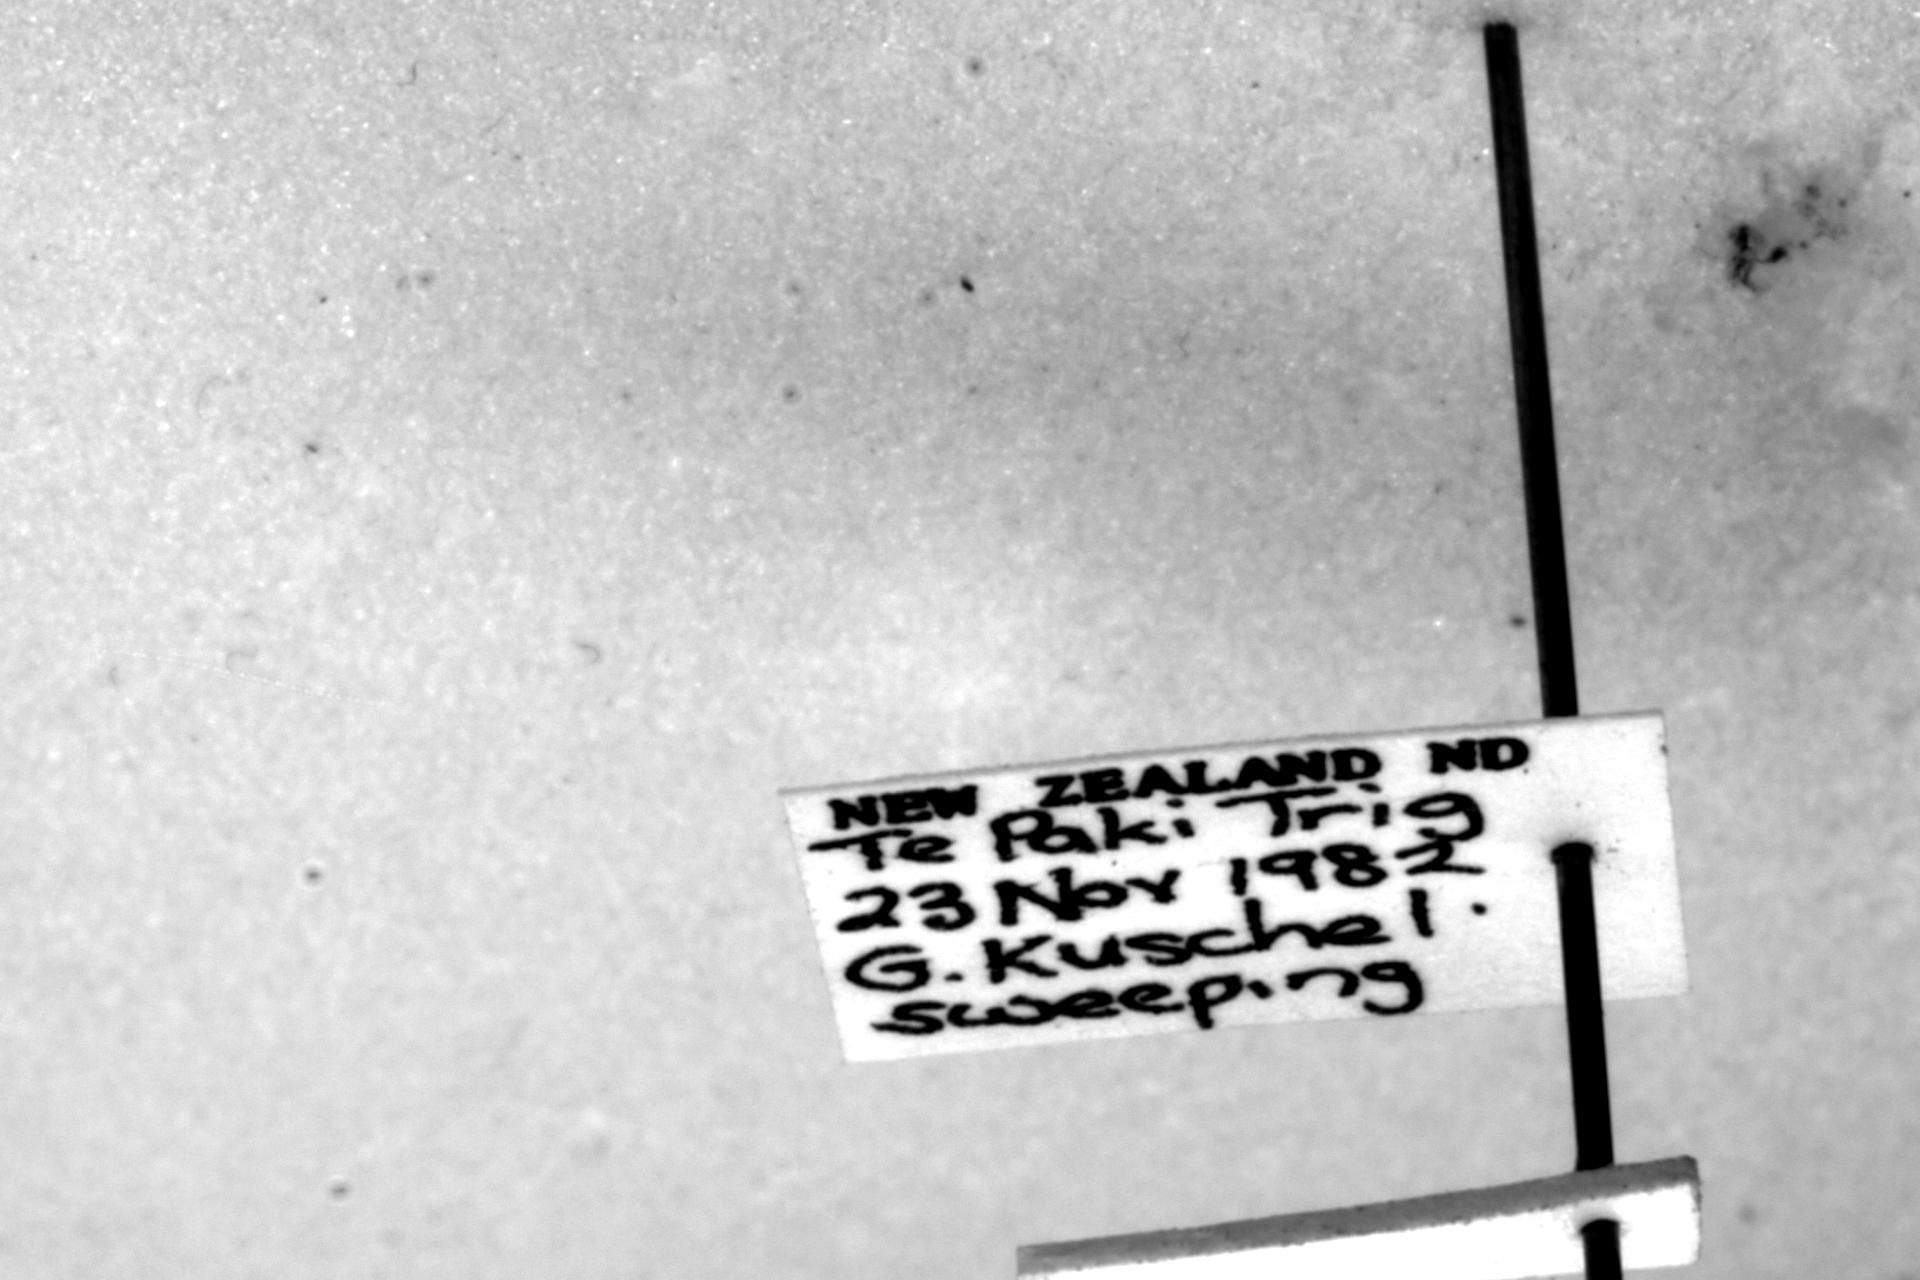mixed_label: (784, 713, 1687, 1061)
